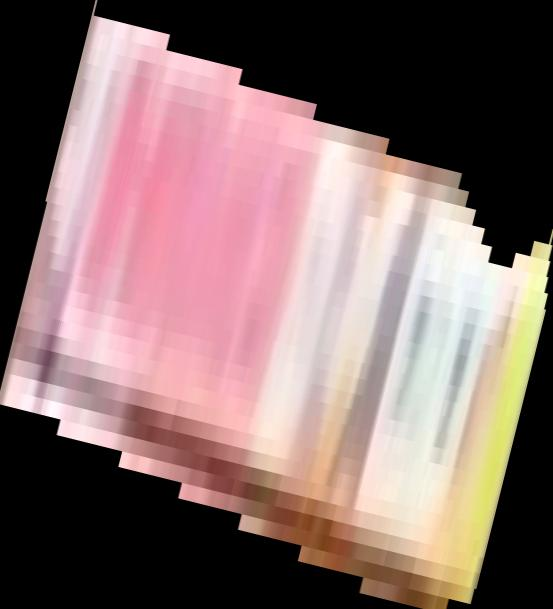flat: (1, 1, 553, 609)
